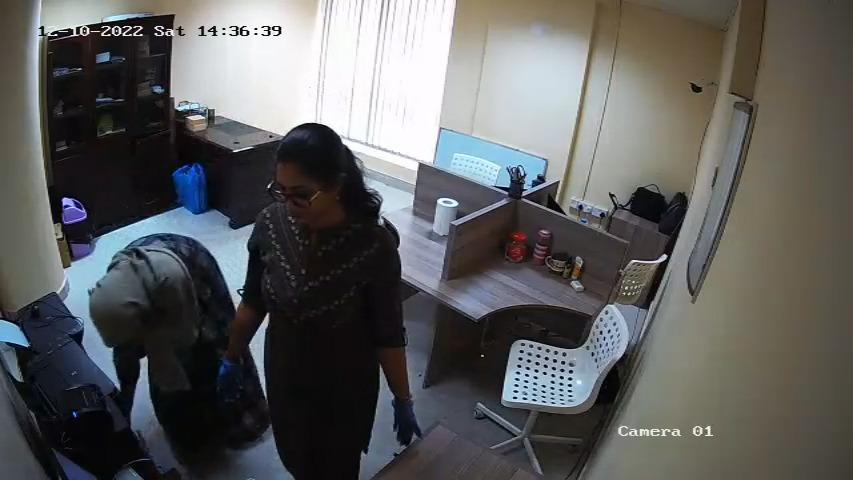gloves: (208, 352, 249, 410), (389, 392, 425, 448)
